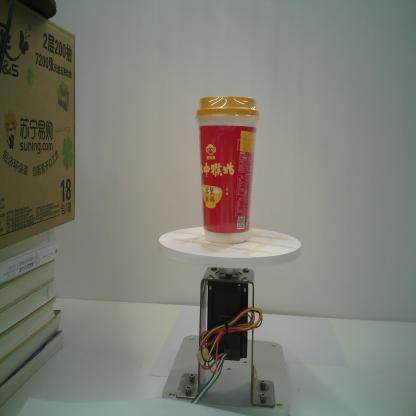Instant Drink: (195, 96, 260, 244)
